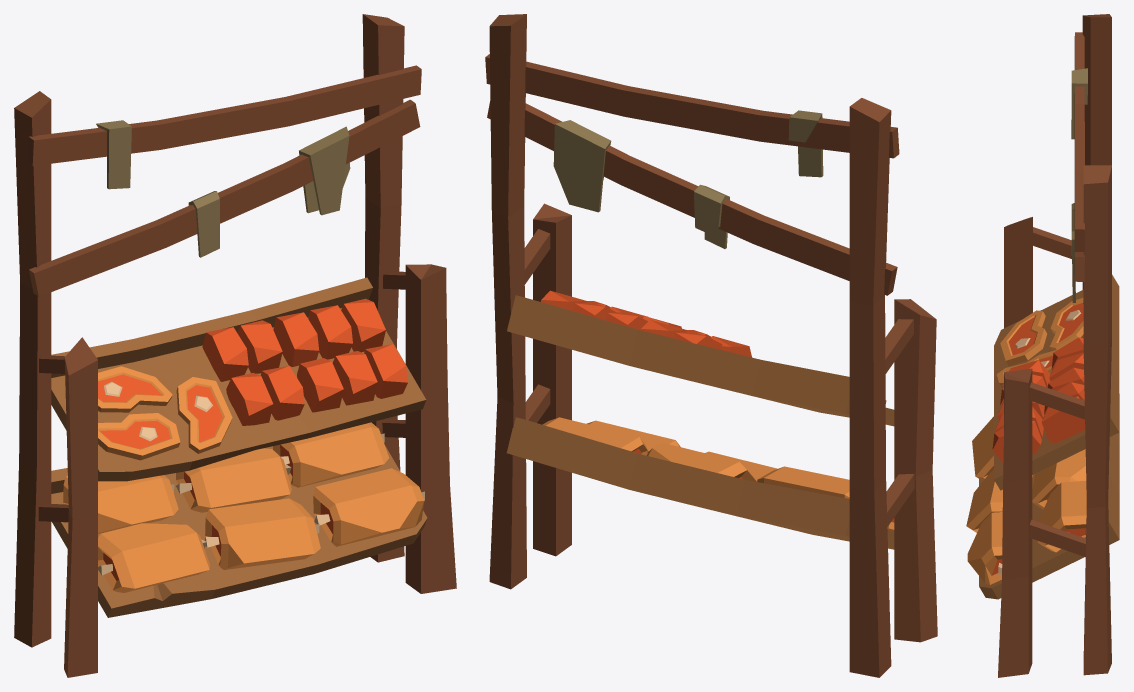
The model's file is LP_PostApoc_ShopStandMeat.fbx.
3 renders of one model, left to right at view 1: azimuth 30°, elevation 25°; view 2: azimuth 150°, elevation 25°; view 3: azimuth 270°, elevation 25°, orthographic. The views are drawn at different scales.
Visible parts, largest first — view 1: ShopStandMeat; view 2: ShopStandMeat; view 3: ShopStandMeat.
Boxes of the visible parts, left/top/right/bottom form: ShopStandMeat: left=14, top=14, right=456, bottom=677; ShopStandMeat: left=485, top=14, right=937, bottom=677; ShopStandMeat: left=966, top=14, right=1119, bottom=677.
Size of the model in its own units: 185 by 244 by 67.97.
